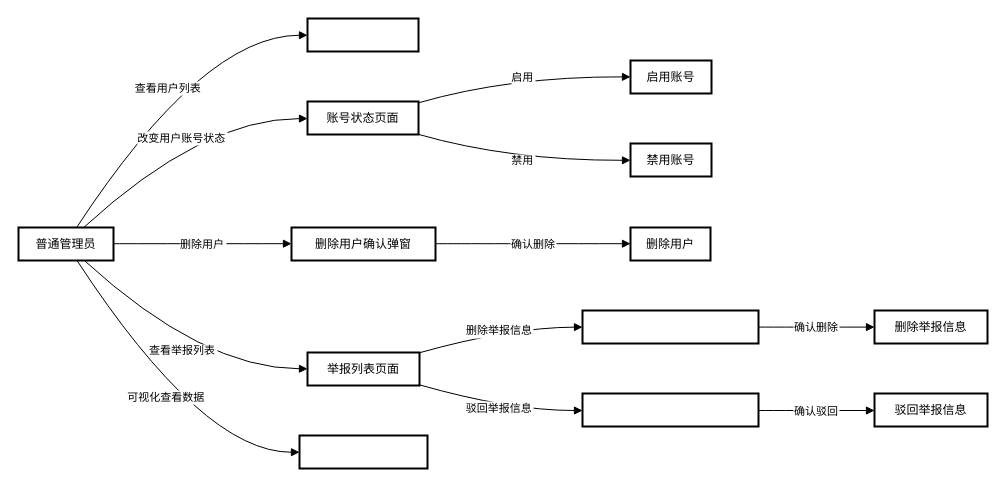
Image size: 1005x486. Some labels were removed from this diagram. The shapes that lost their labels are listed below. From the top down, each one's centre as x and y in pixels, then its label:
[362,34]: 用户列表页面
[670,326]: 删除举报信息确认弹窗
[670,409]: 驳回举报信息确认弹窗
[363,451]: 数据可视化页面
